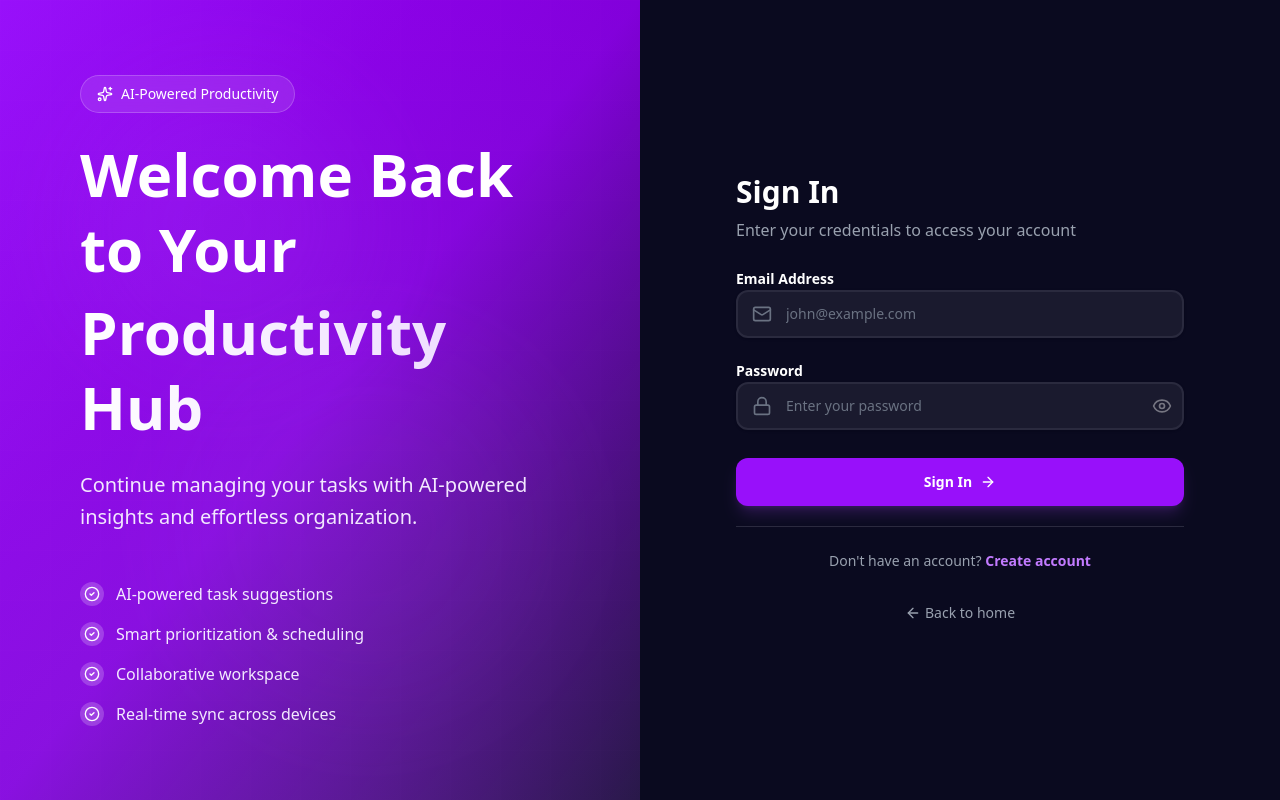
Sign-In Flow Integration Test › should validate password is not empty
The width and height of the screenshot is (1280, 800).
Type "user@example.com" into the field labelled "Email Address" at {"x": 960, "y": 314}, box [736,290,1184,338]
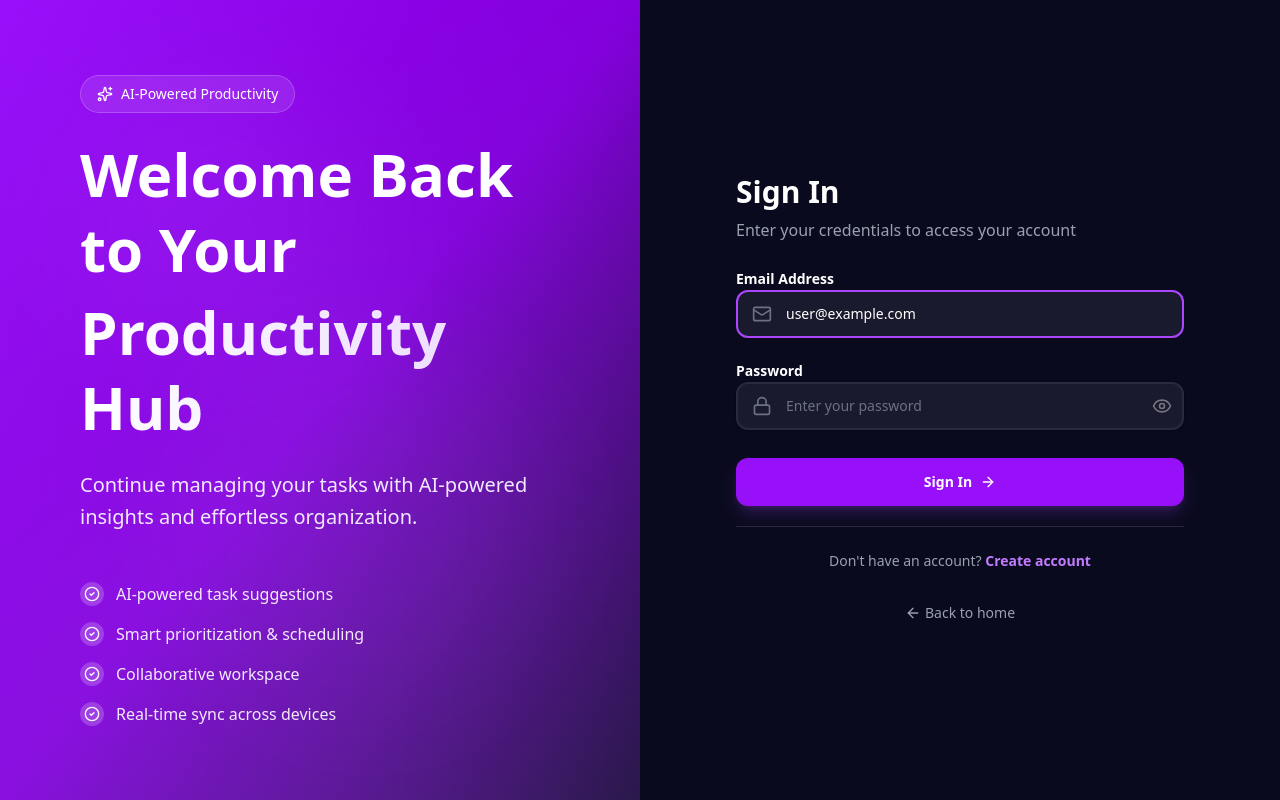
Press Tab
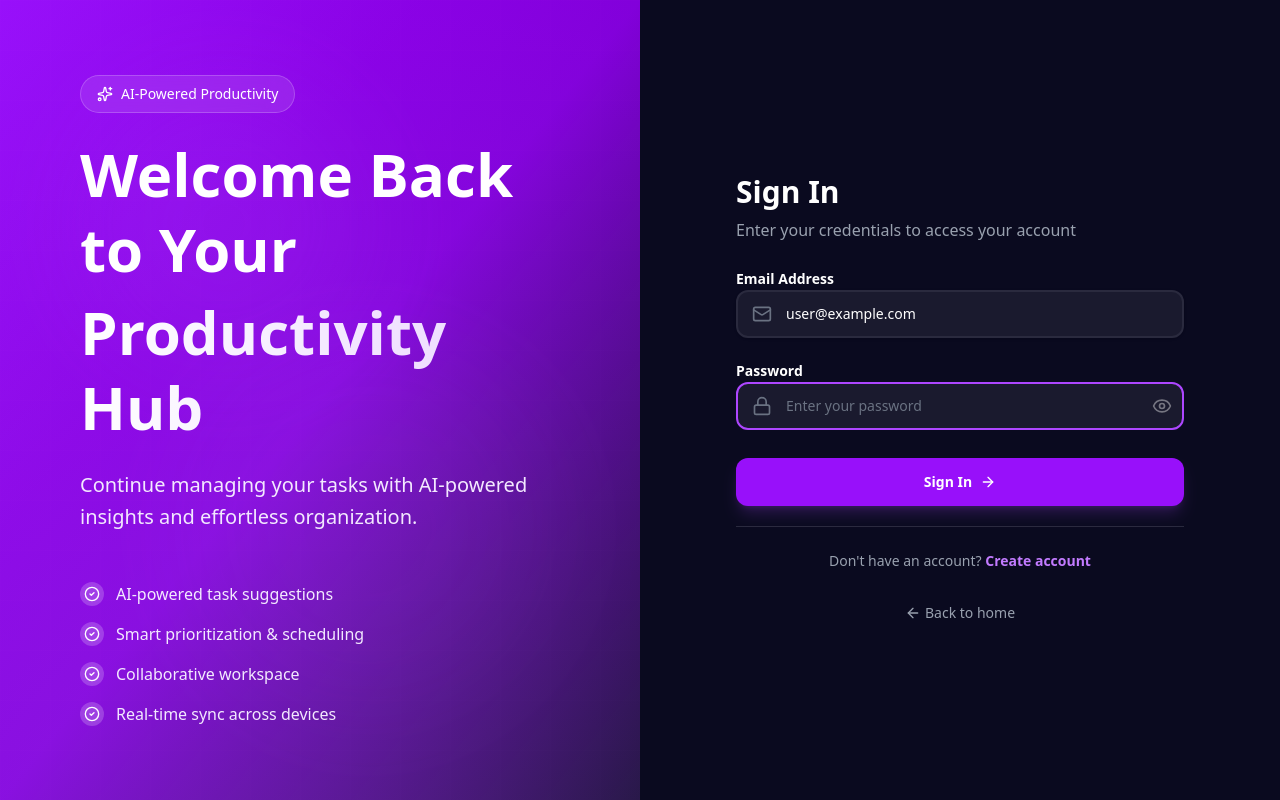
Press Tab
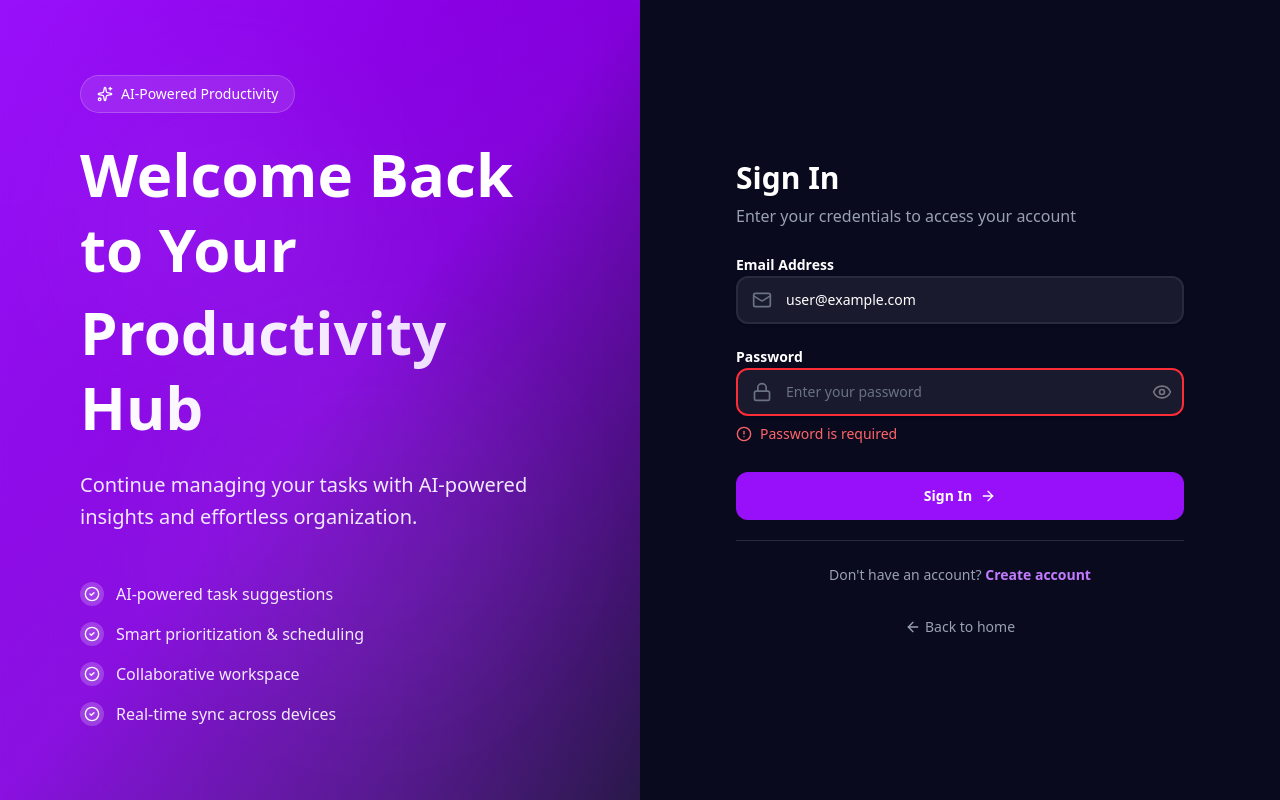
expect the text "Password is required" is shown: met, box [760,424,897,444]
